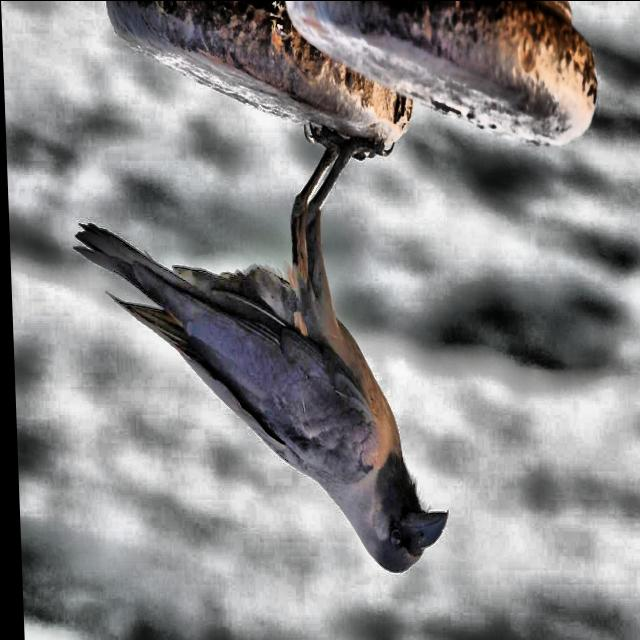crow: (66, 104, 478, 587)
